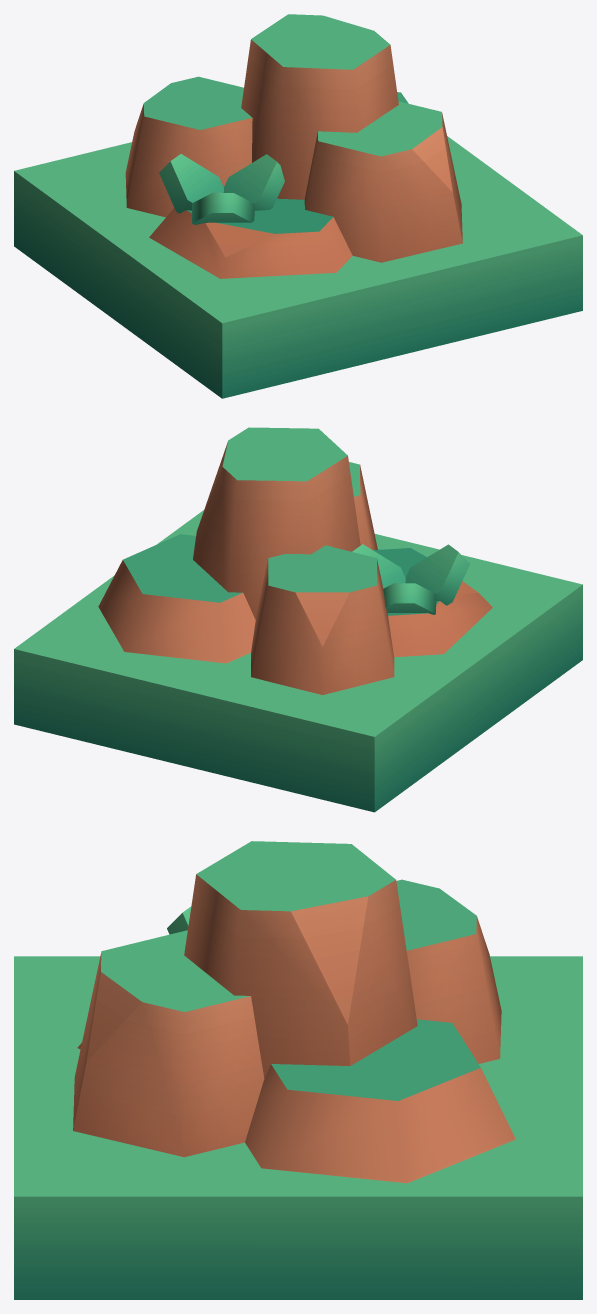
The model's file is tile-rock.glb.
The picture shows the model from 3 angles, top to bottom: view 1: azimuth 30°, elevation 25°; view 2: azimuth 150°, elevation 25°; view 3: azimuth 270°, elevation 25°; orthographic projection. The views are drawn at different scales.
Parts seen in each view (by area): view 1: tile-rock; view 2: tile-rock; view 3: tile-rock.
Boxes of the visible parts, x1,y1,x2,y2 form: tile-rock: (14,14,582,398); tile-rock: (14,427,582,812); tile-rock: (14,841,582,1299).
Size of the model in its own units: 1 by 0.6146 by 1.
Materials: 1 (1 with a texture image).
